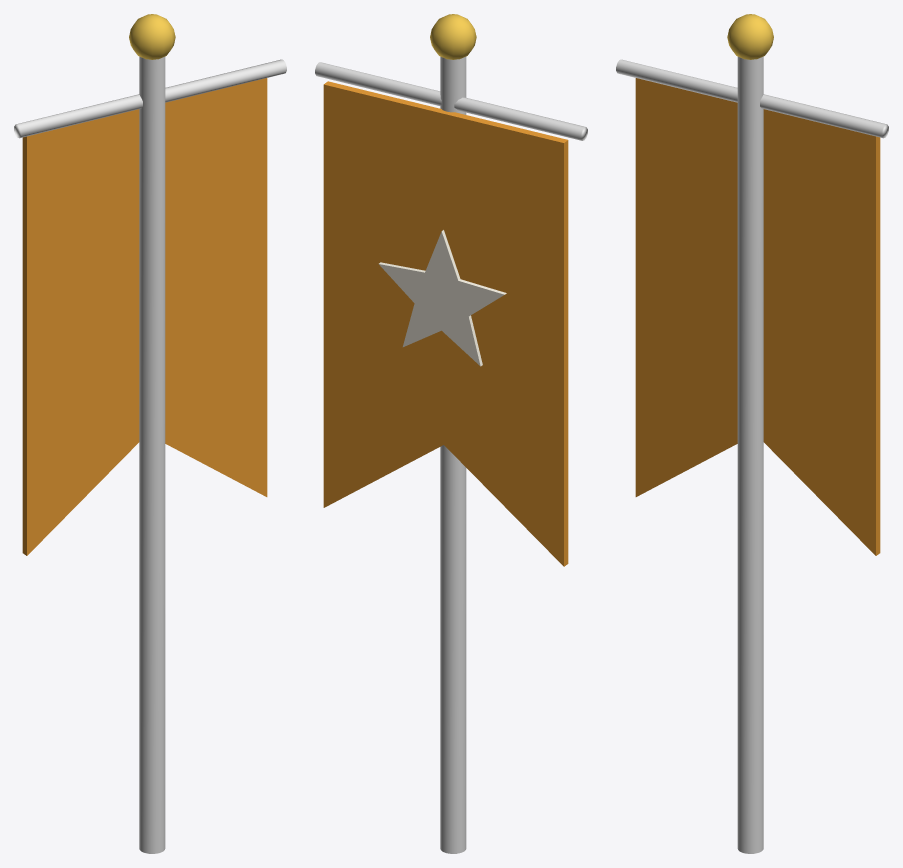
The model's file is StruggleBanner.obj.
3 renders of one model, left to right at view 1: azimuth 30°, elevation 25°; view 2: azimuth 150°, elevation 25°; view 3: azimuth 330°, elevation 25°, orthographic.
Parts seen in each view (by area): view 1: Cloth, Pole, Finial; view 2: Cloth, Pole, Emblem, Finial; view 3: Cloth, Pole, Finial.
Boxes of the visible parts, x1,y1,x2,y2 form: Cloth: [22, 78, 267, 555]; Pole: [14, 56, 286, 853]; Finial: [129, 14, 175, 59]; Cloth: [323, 81, 568, 566]; Pole: [315, 56, 587, 853]; Emblem: [379, 230, 506, 366]; Finial: [430, 14, 476, 59]; Cloth: [635, 78, 880, 555]; Pole: [616, 56, 888, 853]; Finial: [727, 14, 773, 59].
Size of the model in its own units: 4.2 by 12.57 by 0.64.
